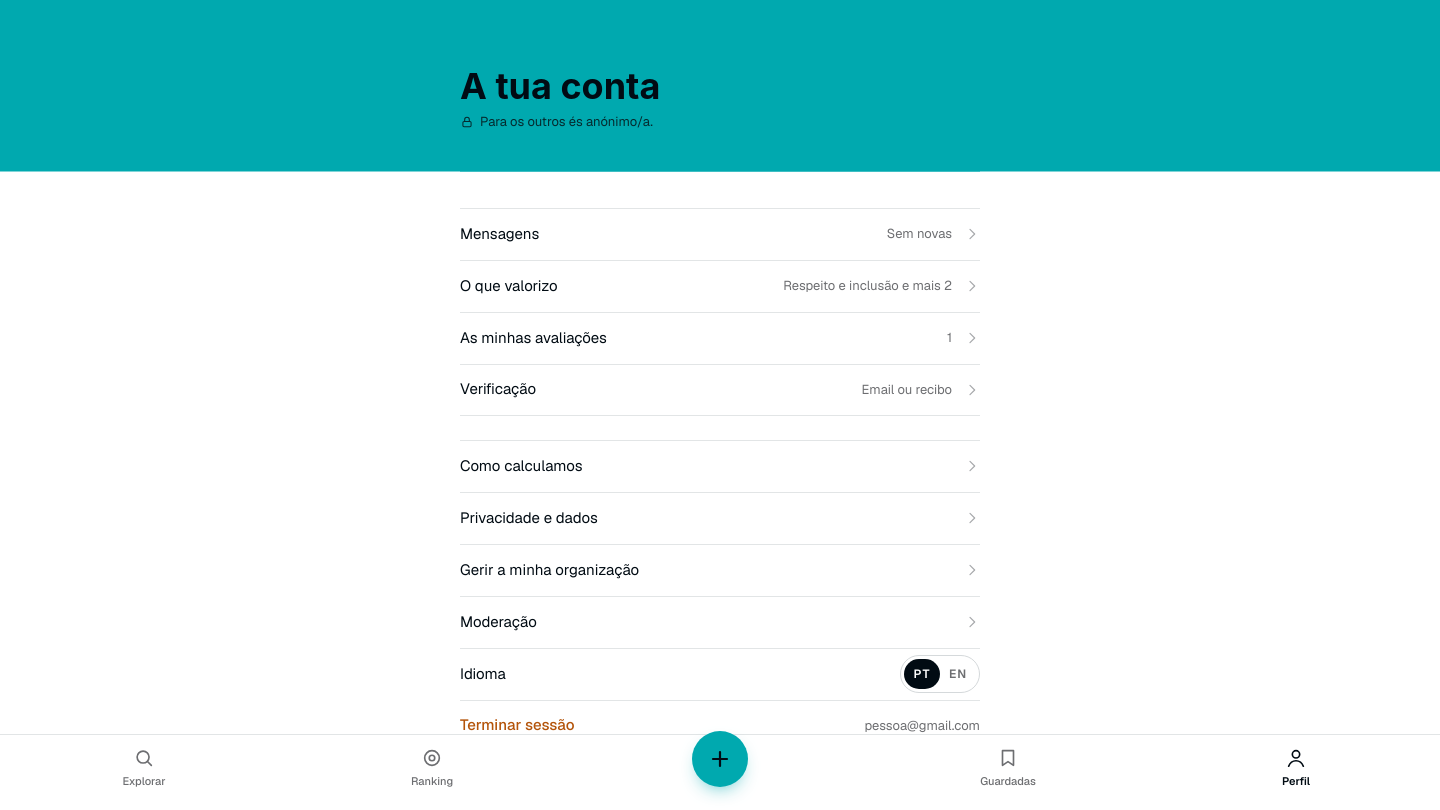
Test: Perfil (mobile) › as minhas avaliações ligam à organização
Expected: the heading "A tua conta" is shown, [460,64,660,108]
Click the button "As minhas avaliações 1": (533, 337) [460,312,980,364]
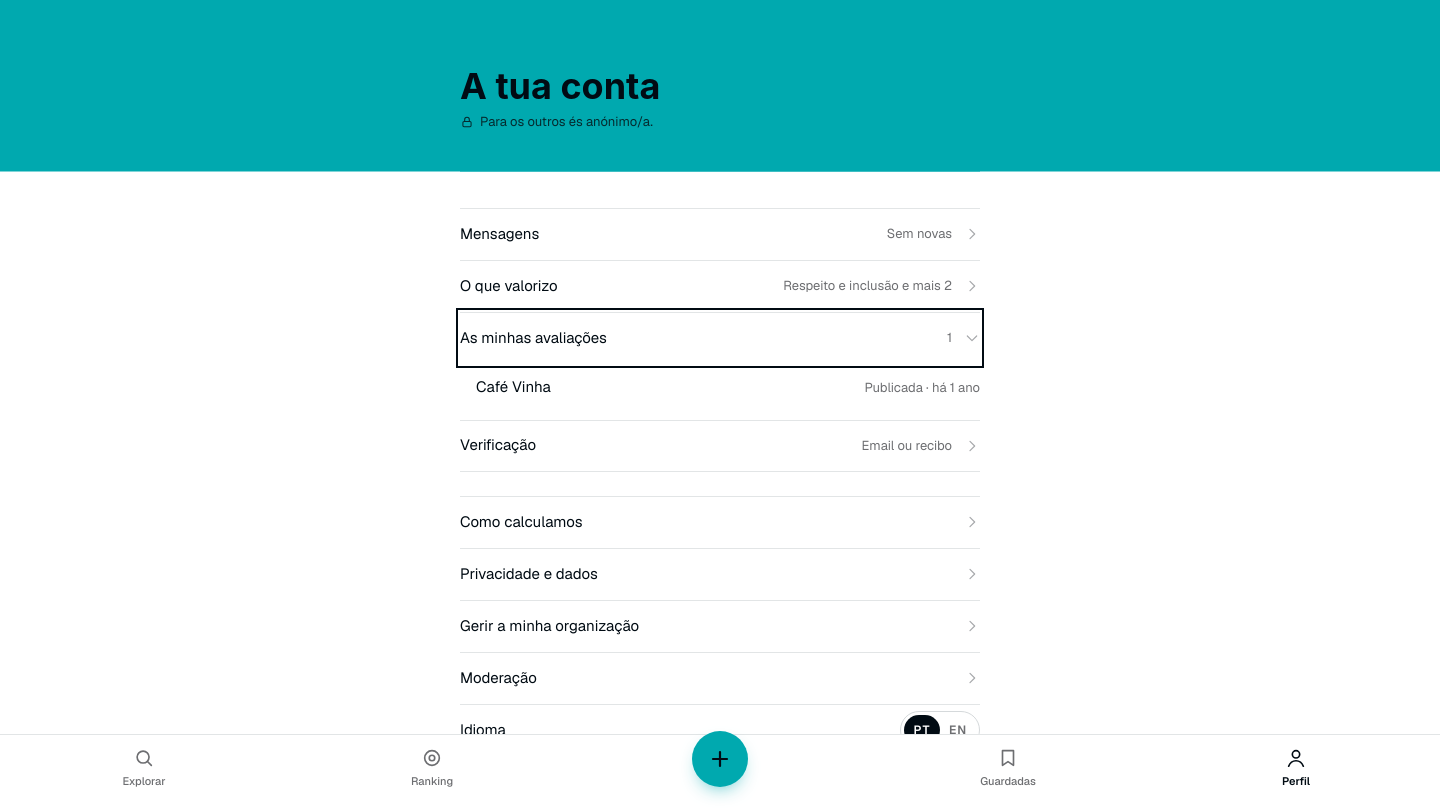
Now the link "Café Vinha Publicada · há 1 ano" is shown, box [476,377,980,396]
